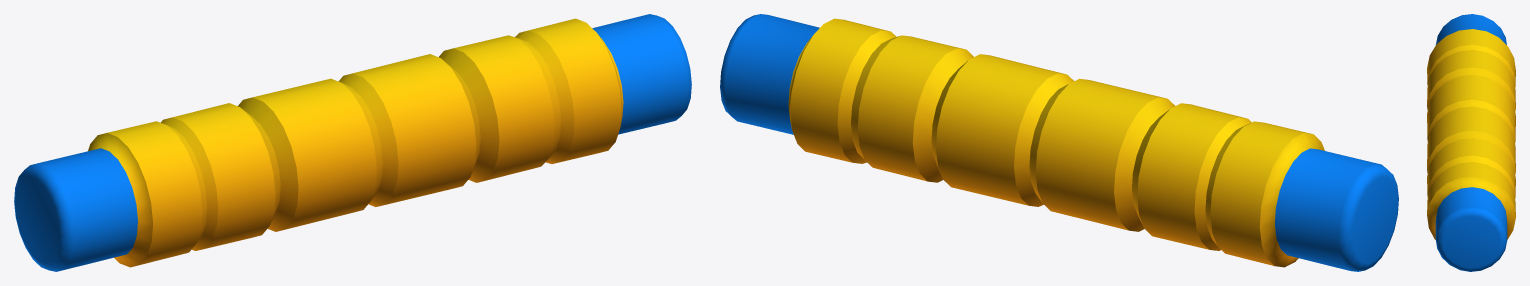
Rendered from weapon_1.fbx.
3 renders of one model, left to right at view 1: azimuth 30°, elevation 25°; view 2: azimuth 150°, elevation 25°; view 3: azimuth 270°, elevation 25°, orthographic. The views are drawn at different scales.
Parts seen in each view (by area): view 1: weapon_1; view 2: weapon_1; view 3: weapon_1.
Boxes of the visible parts, x1=… form: weapon_1: x1=14, y1=14, x2=691, y2=271; weapon_1: x1=720, y1=14, x2=1398, y2=271; weapon_1: x1=1427, y1=14, x2=1515, y2=271.
Size of the model in its own units: 33.27 by 6.29 by 6.29.
